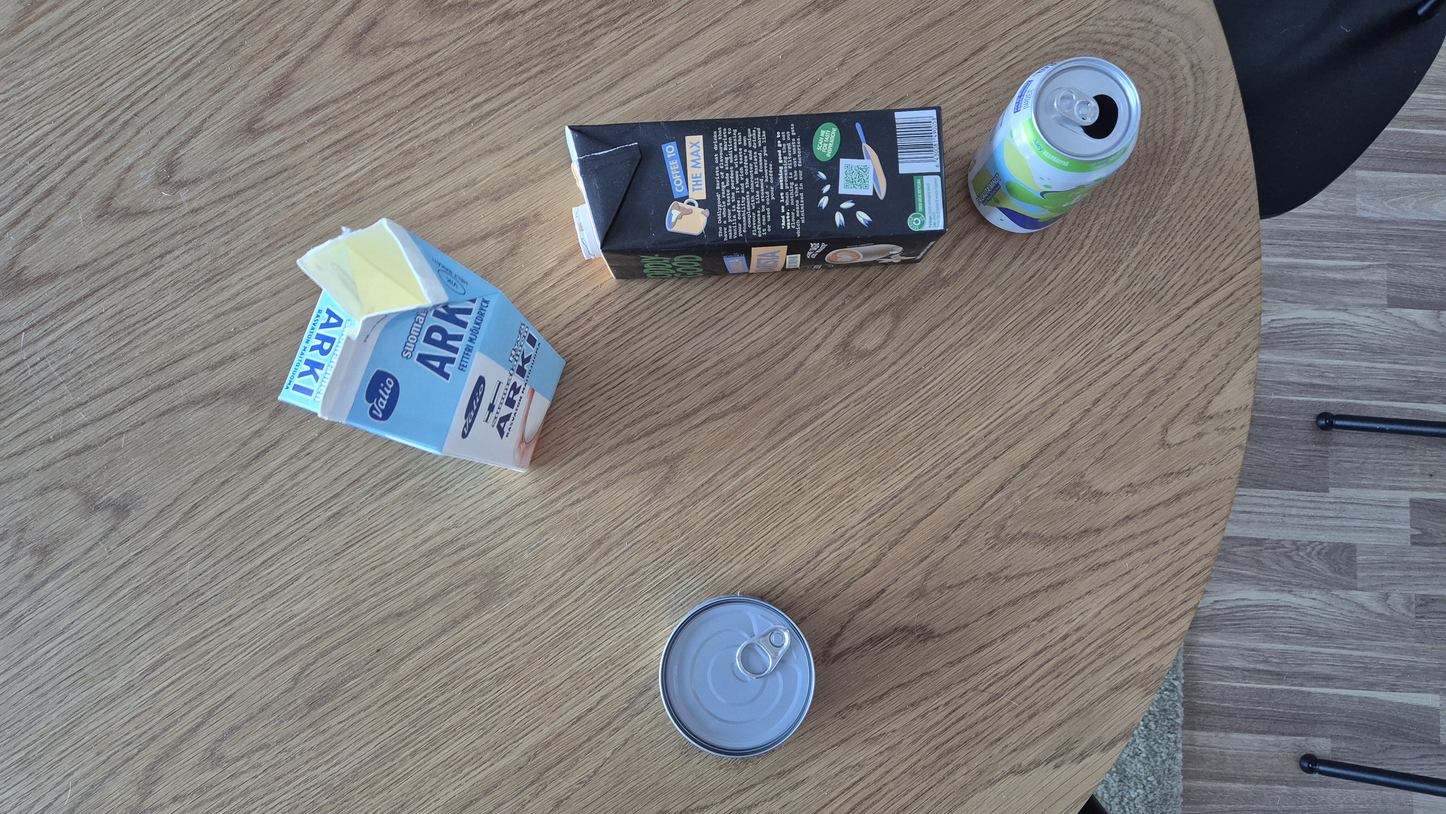Dryckeskartong: (278, 218, 567, 475), (565, 107, 948, 280)
Konservburk: (614, 573, 813, 751)
Pantburk: (968, 56, 1141, 233)
